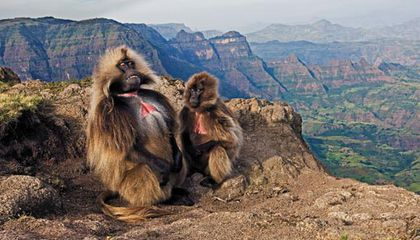Gelada: (92, 45, 173, 209), (178, 65, 243, 189)
